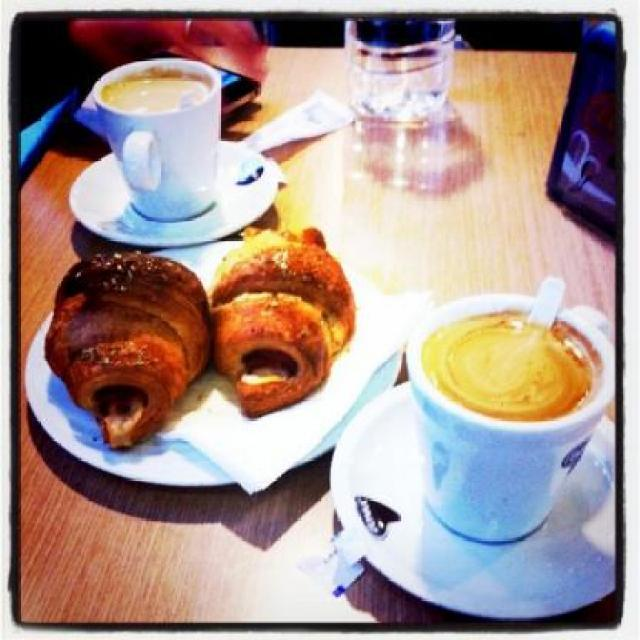Croissant: (46, 249, 217, 448), (212, 230, 356, 416)
